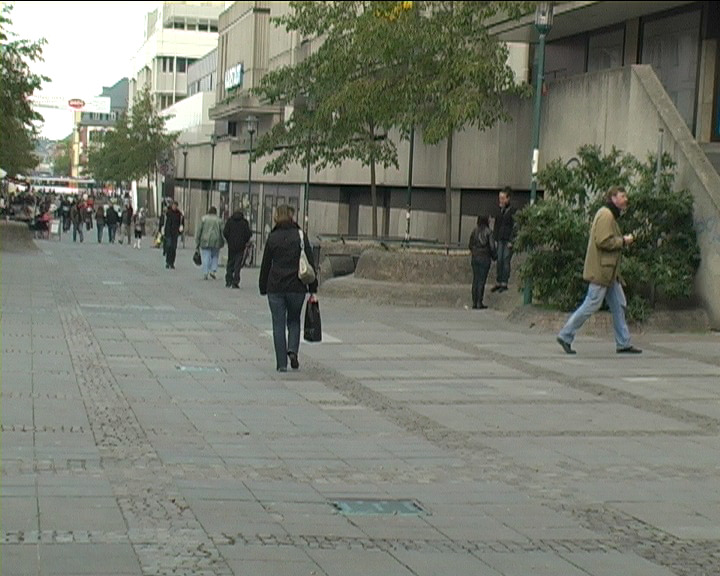undeflect: (593, 183, 632, 243)
